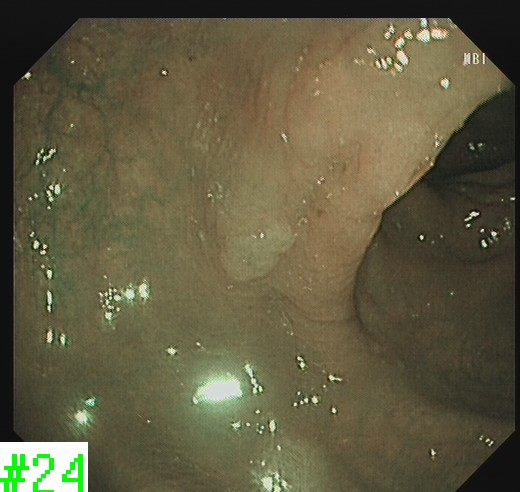others: (210, 206, 300, 286)
